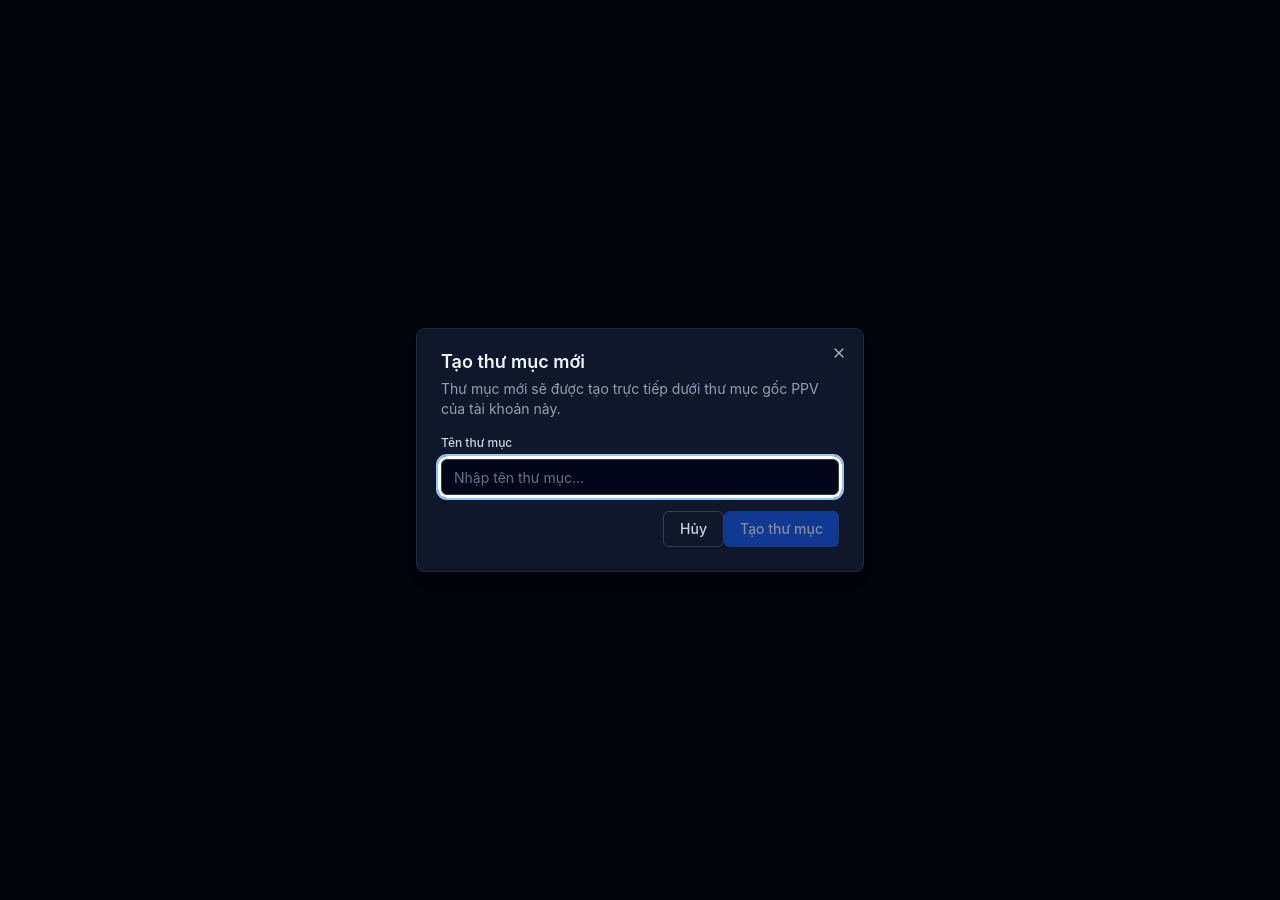
Test case: Upload and Folder Actions › validates folder name in FolderDialog before submission
Note: Invalid slash name
Type "folder/slash" into the field with placeholder "Nhập tên thư mục..." at {"x": 640, "y": 477}, box [441, 459, 839, 495]
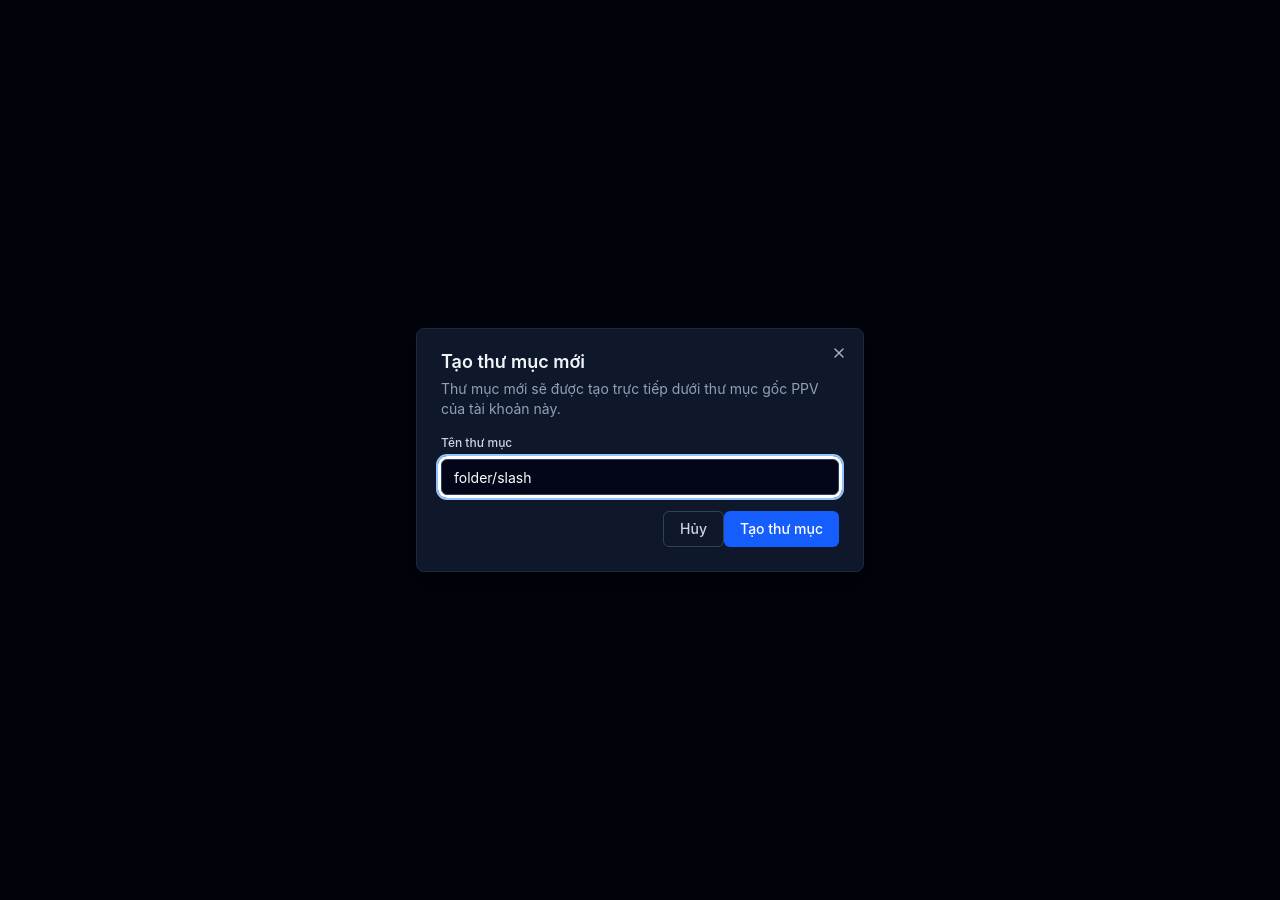
Click the button "Tạo thư mục" at {"x": 782, "y": 529}, box [724, 511, 839, 547]
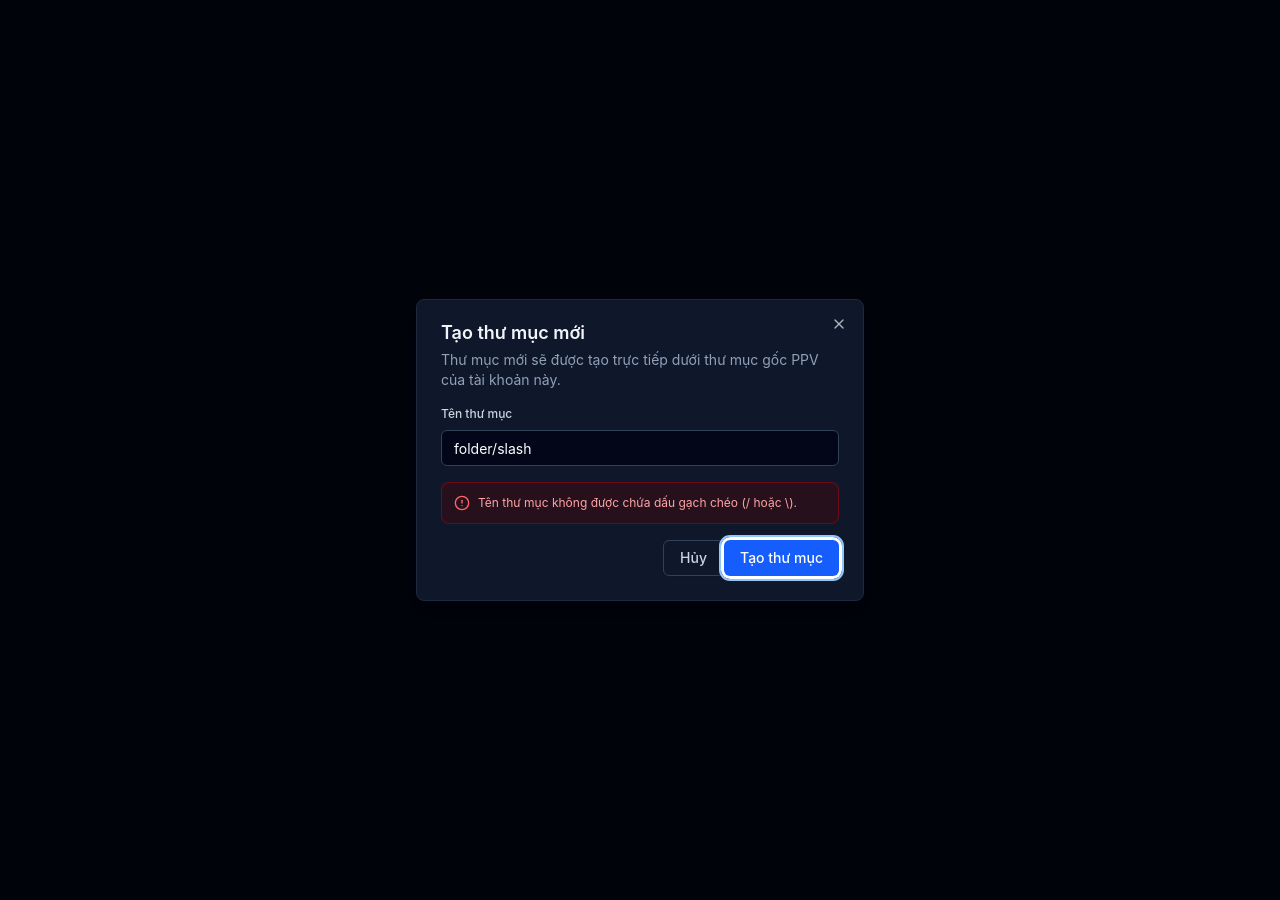
Expected: the text "Tên thư mục không được chứa dấu gạch chéo (/ hoặc \\)." is shown, [478, 495, 797, 511]
